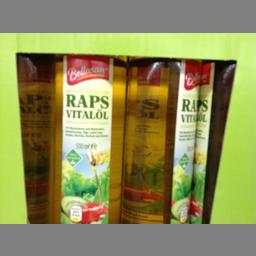oil: (120, 56, 202, 222), (46, 54, 127, 222)
